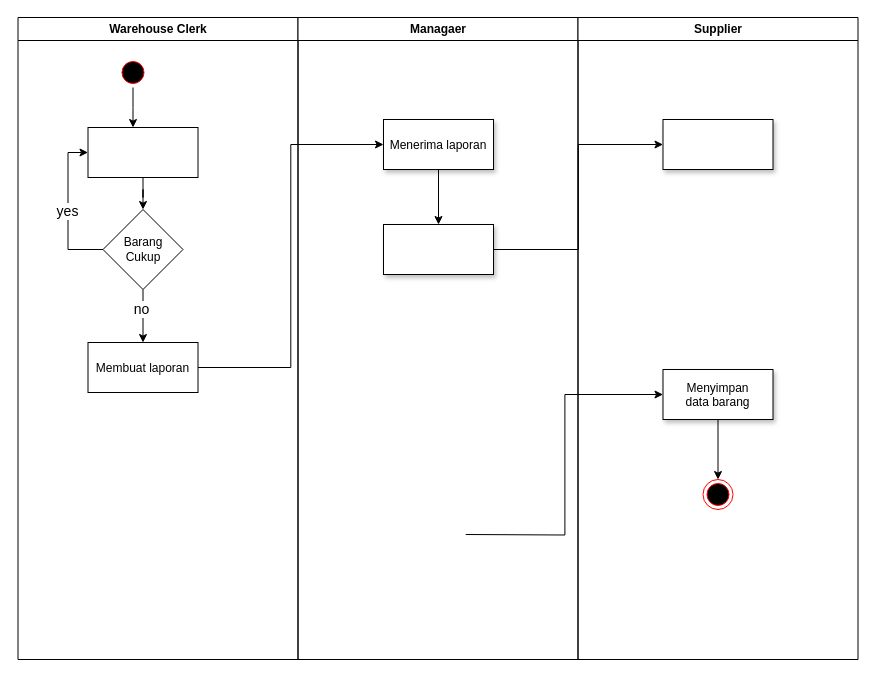
This 875x677 diagram has some shape labels left out. Here are the shapes that lost their labels. From the top down, the centre of each, then its label:
point (142, 152): Cek Stock
point (718, 145): Menerima pesanan
point (439, 251): Memberitahu supplier
